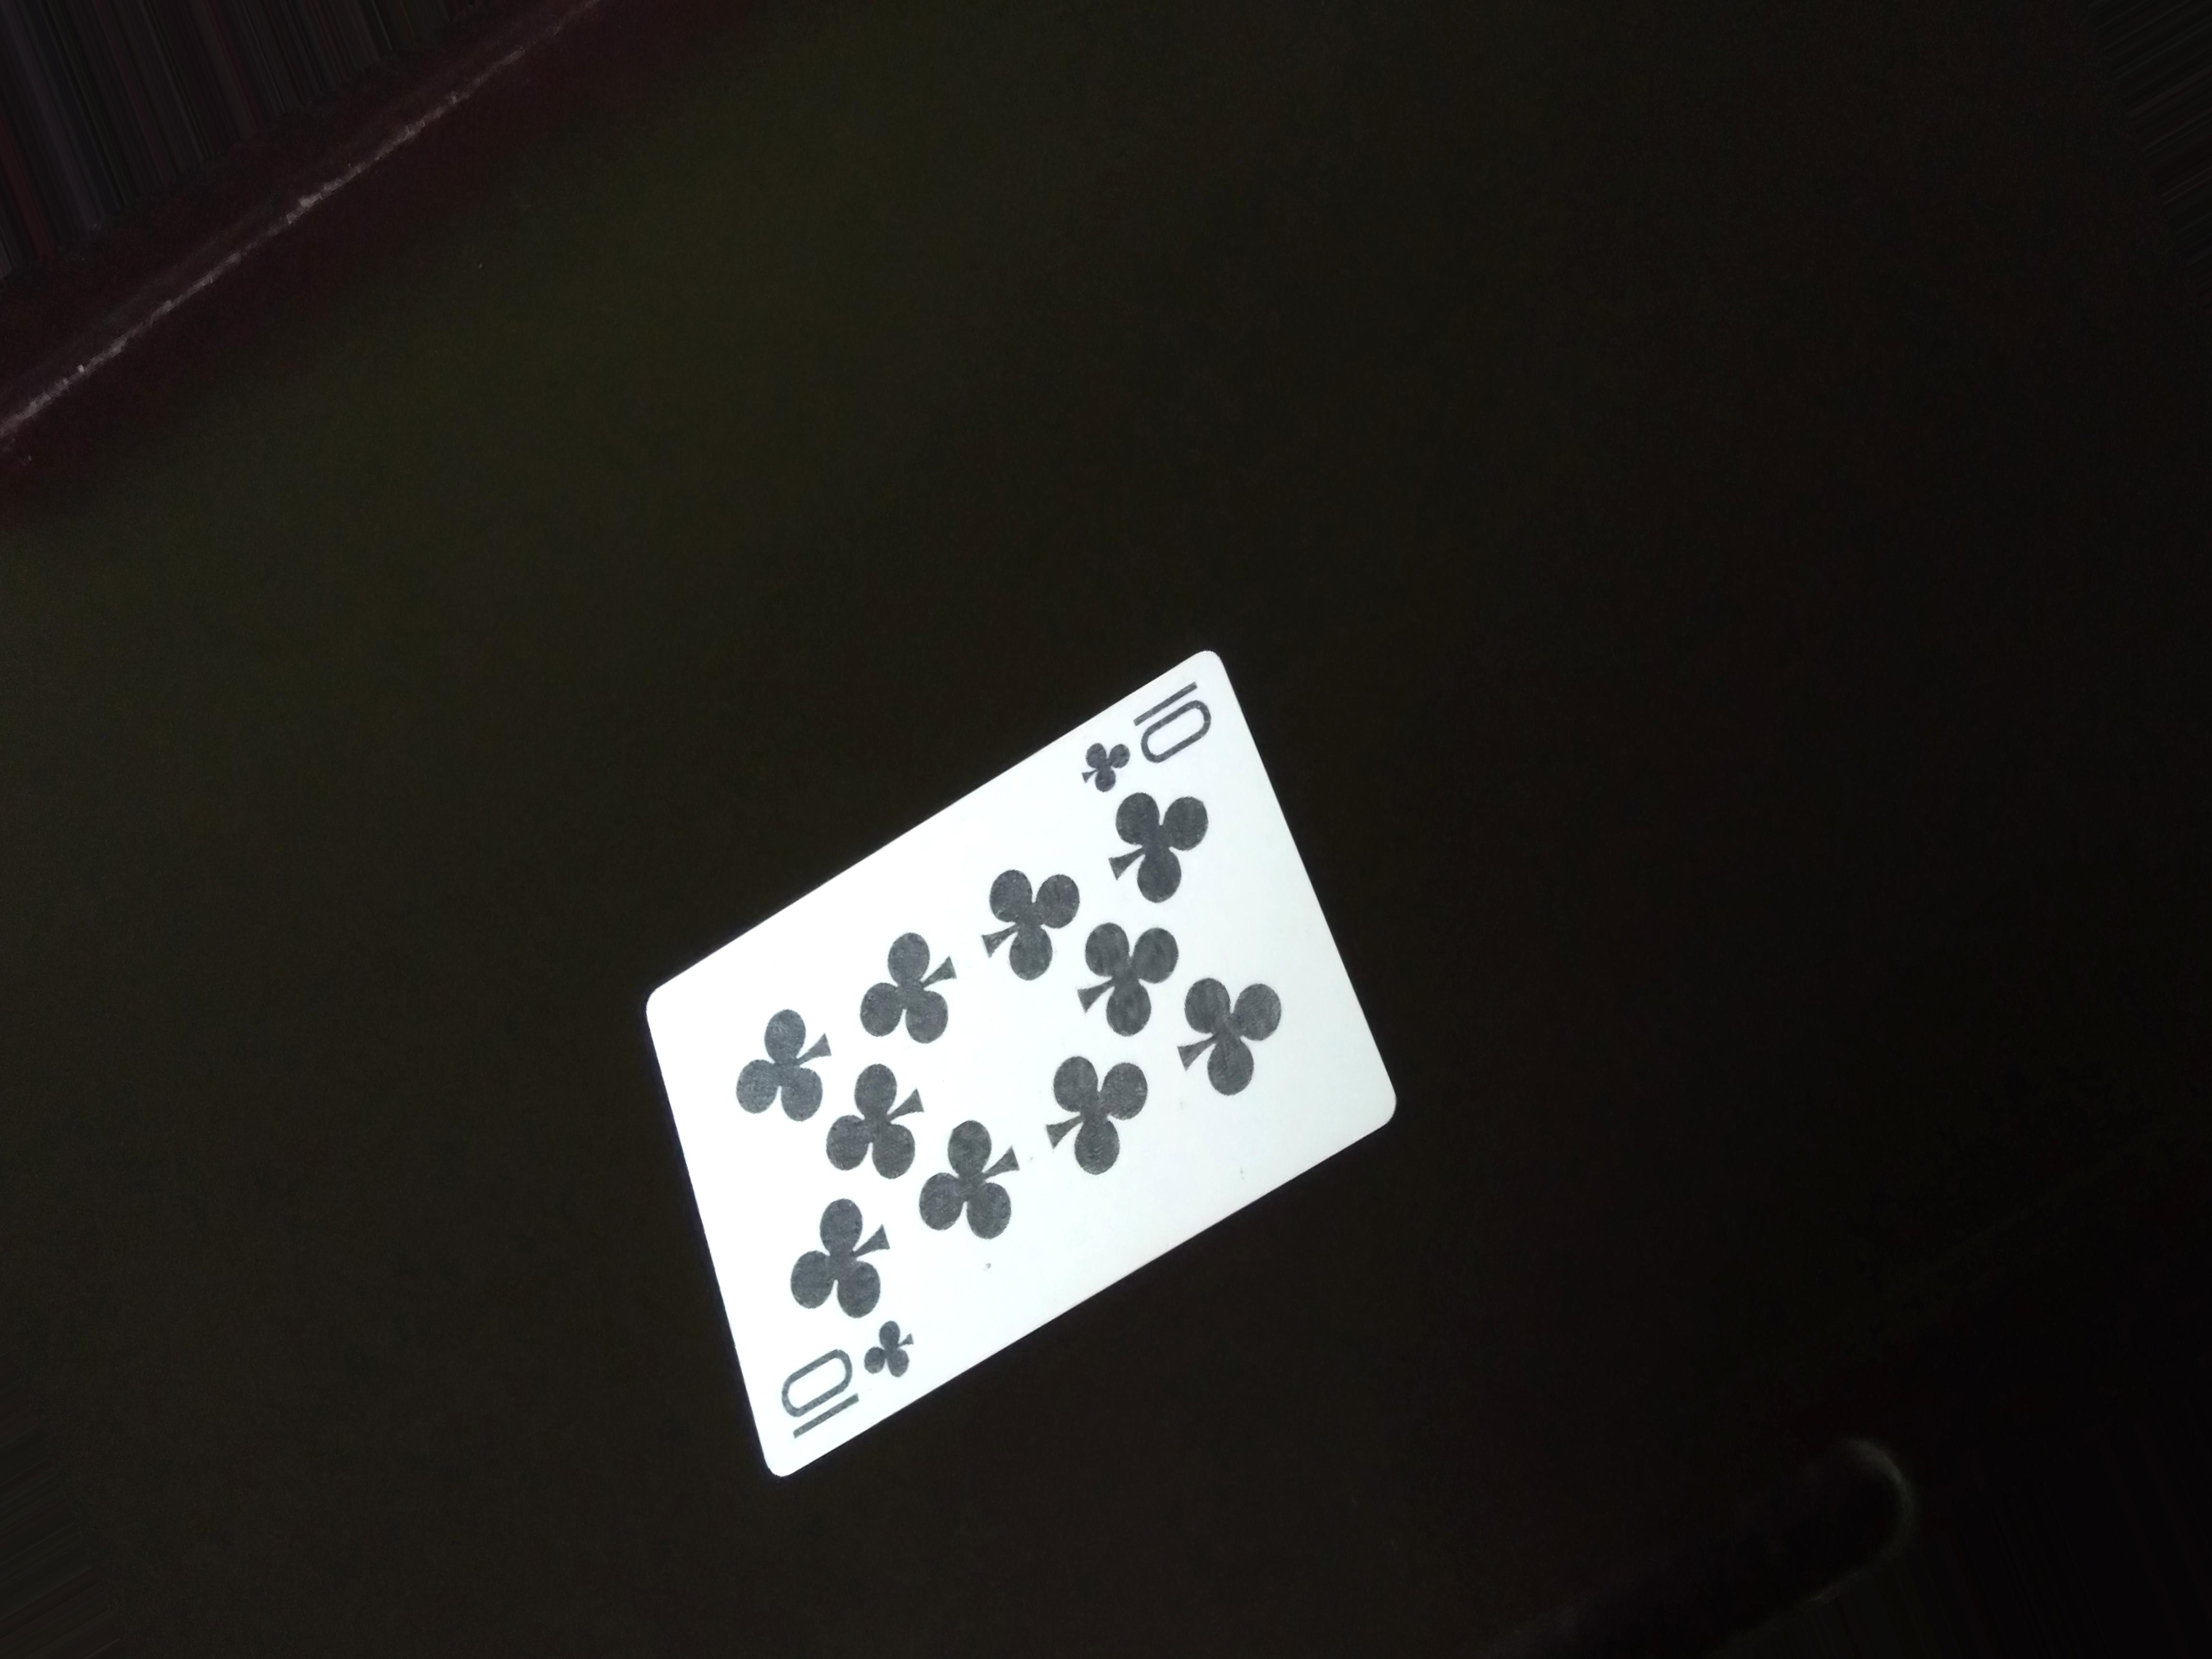10C: (1087, 683, 1216, 795)
